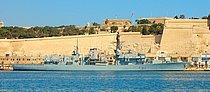MIL_Ship: (12, 37, 188, 72)
